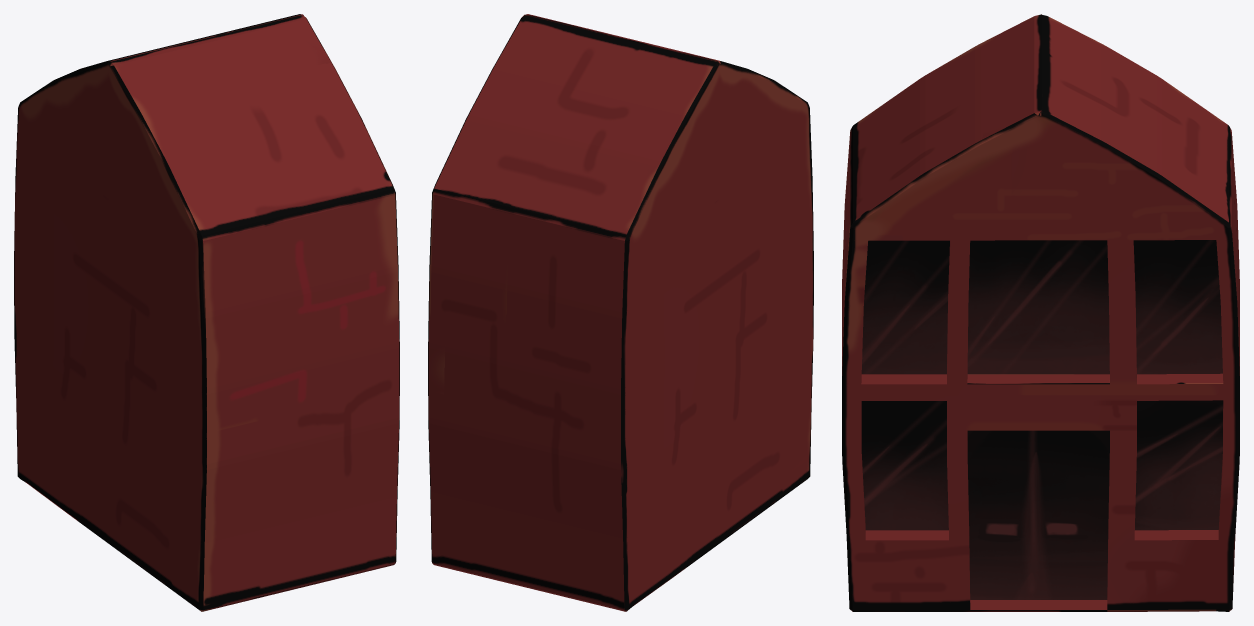
The model's file is house_model.fbx.
The picture shows the model from 3 angles, left to right: view 1: azimuth 30°, elevation 25°; view 2: azimuth 150°, elevation 25°; view 3: azimuth 270°, elevation 25°; orthographic projection. The views are drawn at different scales.
Parts seen in each view (by area): view 1: Cube; view 2: Cube; view 3: Cube.
Part boxes in pixels (box(x1,y1,x2,y2)): Cube: box(14, 14, 399, 611); Cube: box(428, 14, 813, 611); Cube: box(842, 14, 1239, 611).
Size of the model in its own units: 297 by 699 by 504.
2 materials, 2 textured.
